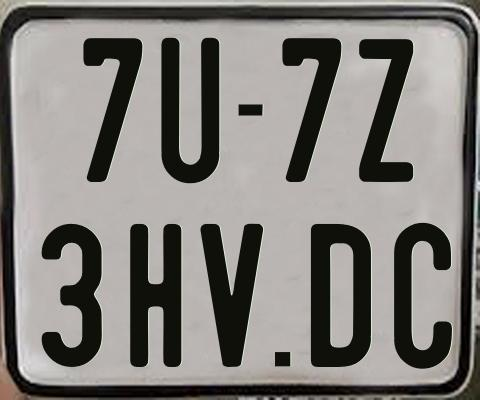3: (40, 223, 102, 367)
7: (82, 35, 147, 182), (279, 37, 338, 181)
C: (392, 222, 454, 368)
D: (311, 223, 374, 366)
H: (128, 222, 181, 367)
U: (159, 37, 217, 182)
V: (198, 224, 267, 373)
Z: (356, 36, 414, 183)
